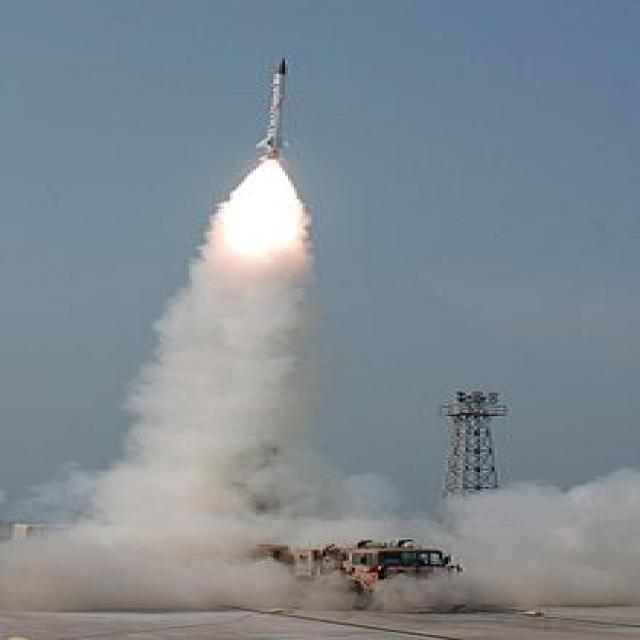missile: (247, 50, 301, 156)
